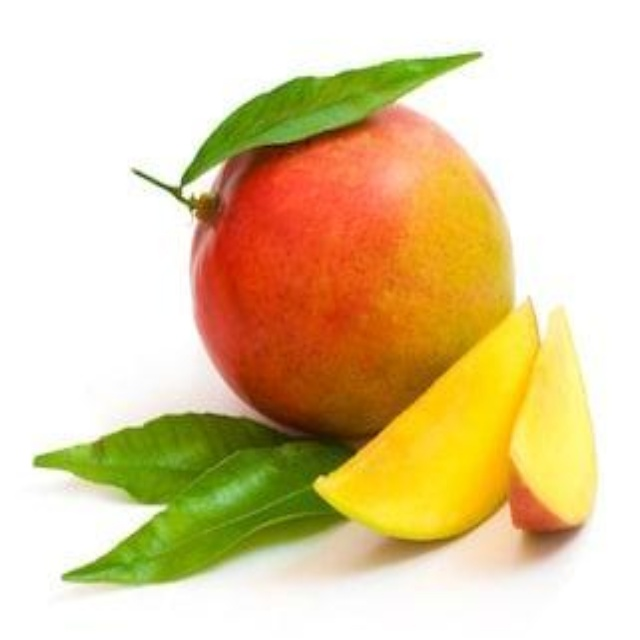mango: (120, 49, 597, 538)
